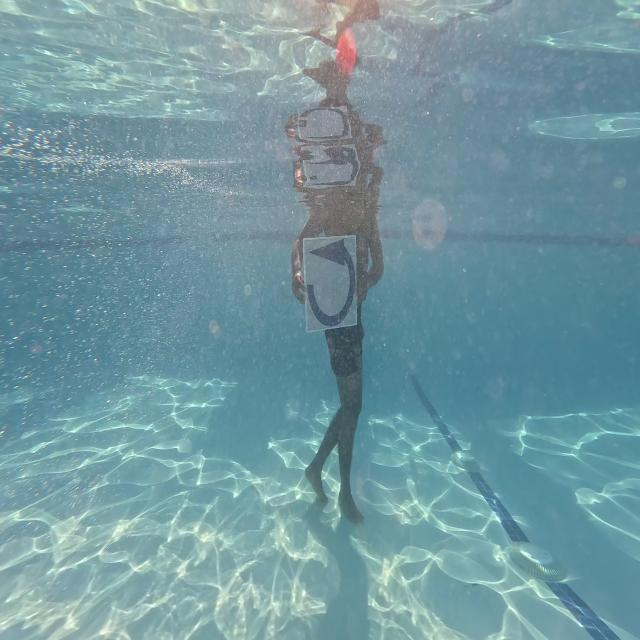blue_side: (304, 238, 360, 330)
